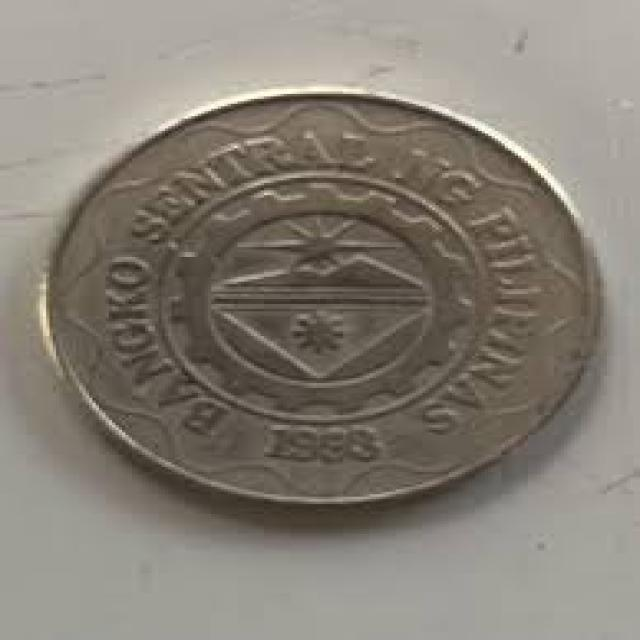5 peso-old: (26, 79, 620, 525)
